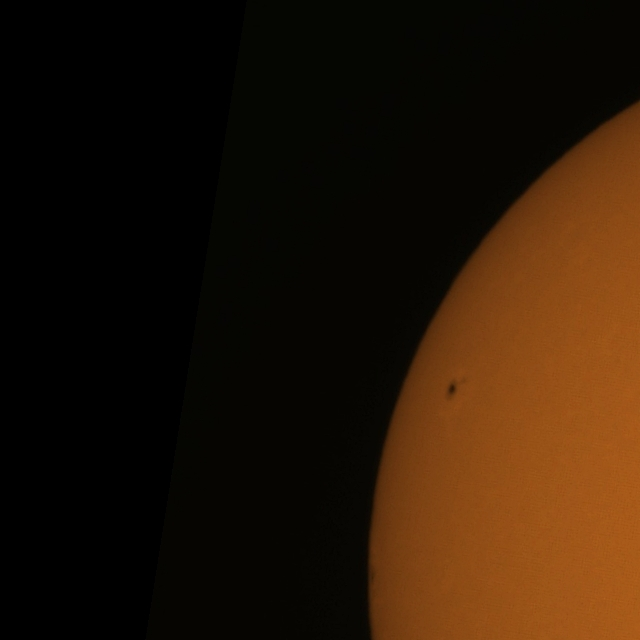sunspot: (446, 377, 466, 401)
